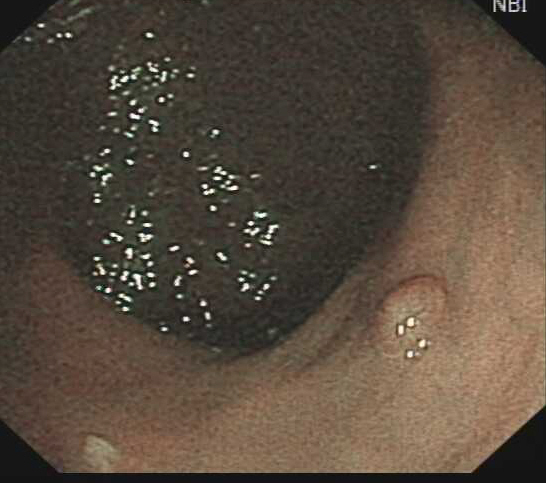adenoma: (370, 275, 447, 347)
